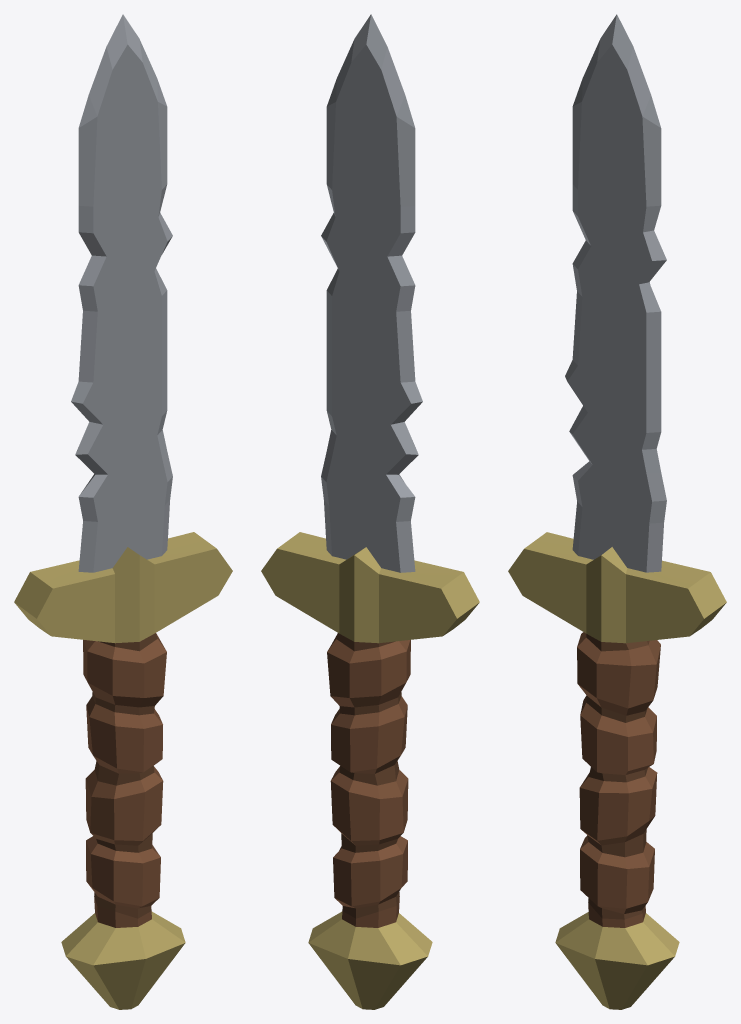
File: Dagger_2.glb
3 renders of one model, left to right at view 1: azimuth 30°, elevation 25°; view 2: azimuth 150°, elevation 25°; view 3: azimuth 330°, elevation 25°, orthographic.
Visible parts, largest first — view 1: Steel, Gold, LightWood, LightSteel, DarkWood; view 2: Steel, Gold, LightWood, LightSteel, DarkWood; view 3: Steel, Gold, LightWood, LightSteel, DarkWood.
Part boxes in pixels (x1=…): Steel: x1=83, y1=44, x2=167, y2=572; Gold: x1=14, y1=532, x2=232, y2=1009; LightWood: x1=83, y1=633, x2=166, y2=927; LightSteel: x1=71, y1=14, x2=172, y2=572; DarkWood: x1=92, y1=633, x2=157, y2=918; Steel: x1=326, y1=44, x2=410, y2=572; Gold: x1=261, y1=532, x2=479, y2=1009; LightWood: x1=327, y1=633, x2=410, y2=927; LightSteel: x1=321, y1=14, x2=422, y2=572; DarkWood: x1=336, y1=633, x2=401, y2=918; Steel: x1=567, y1=44, x2=651, y2=572; Gold: x1=508, y1=532, x2=726, y2=1009; LightWood: x1=577, y1=632, x2=660, y2=927; LightSteel: x1=565, y1=14, x2=666, y2=572; DarkWood: x1=586, y1=634, x2=649, y2=919.
Bounding box in the file's own units: 0.644 × 3.11 × 0.2564.
